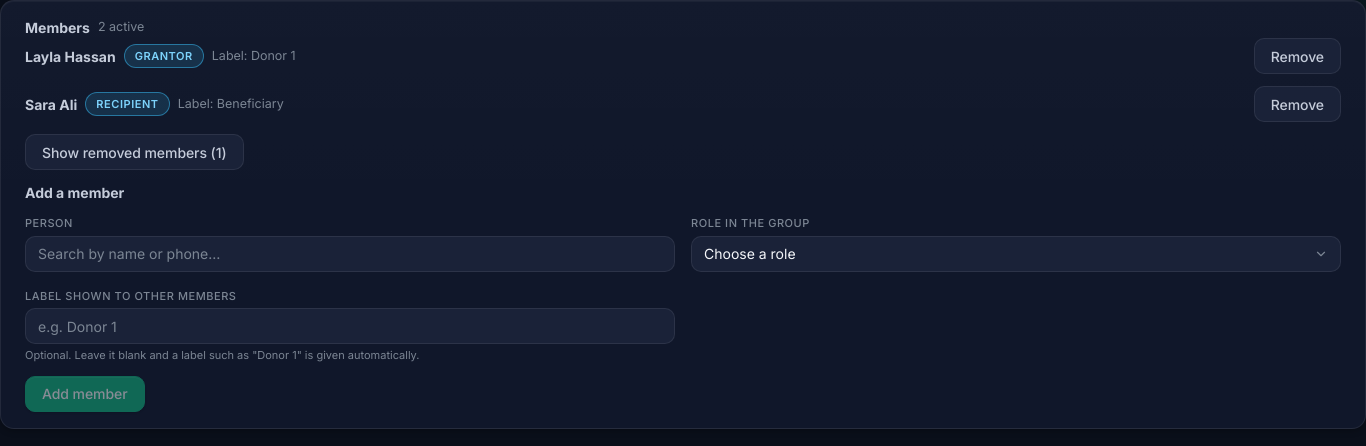
Scenario: GroupRoster — remove › asks once (with the password), then removes the member and refreshes the group
Click the button with aria-label "Remove Layla Hassan" at (1297, 56), box [1254,38,1341,74]
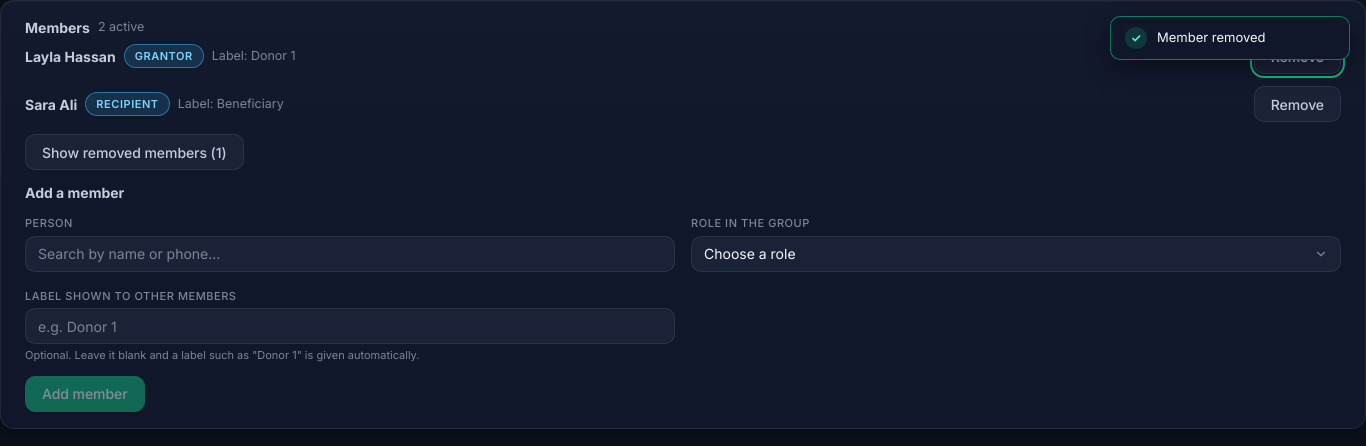
Expected: the text "Member removed" is shown, [1157,28,1266,48]
